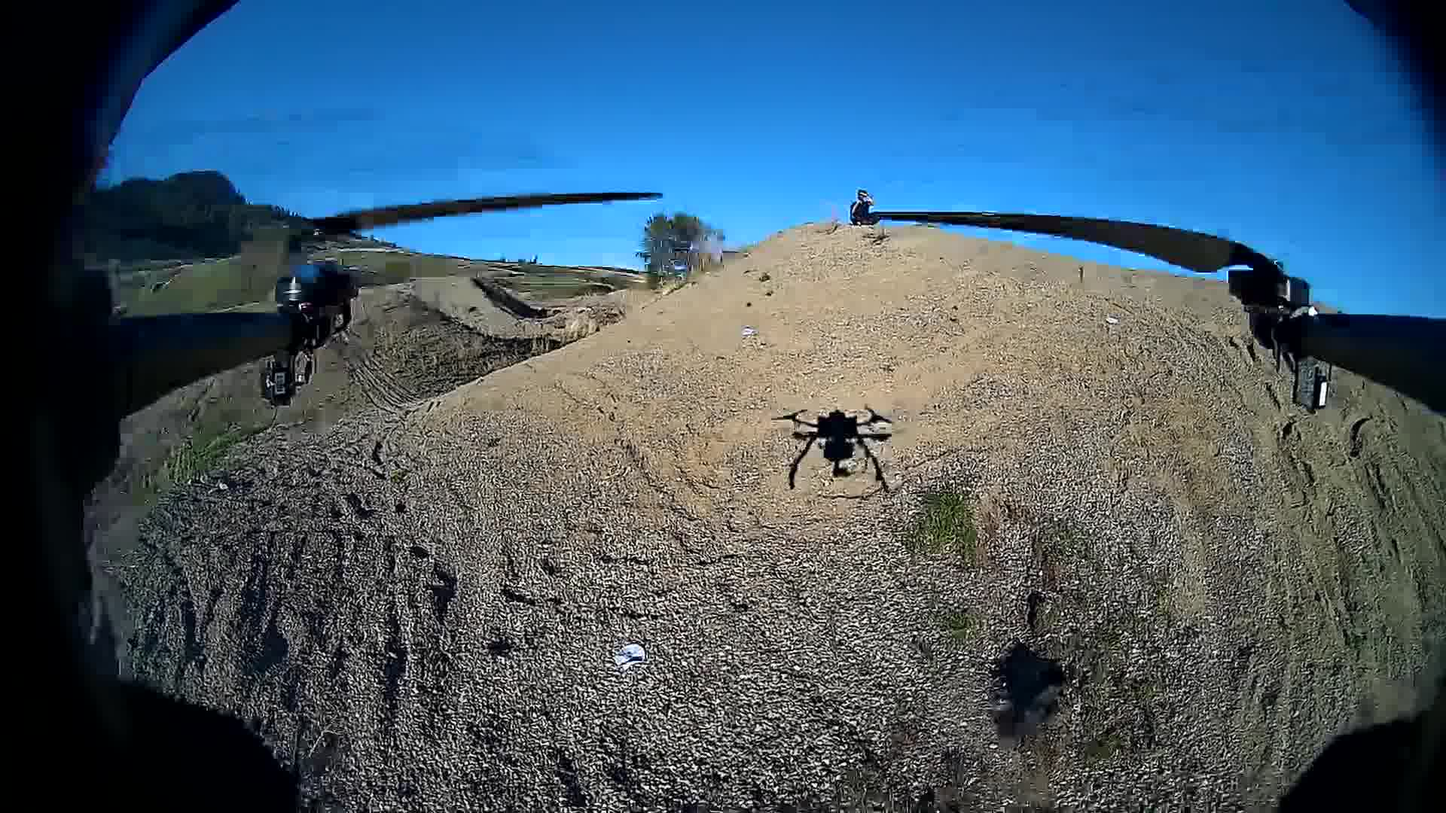Target: (612, 641, 644, 667), (1105, 315, 1119, 325)
